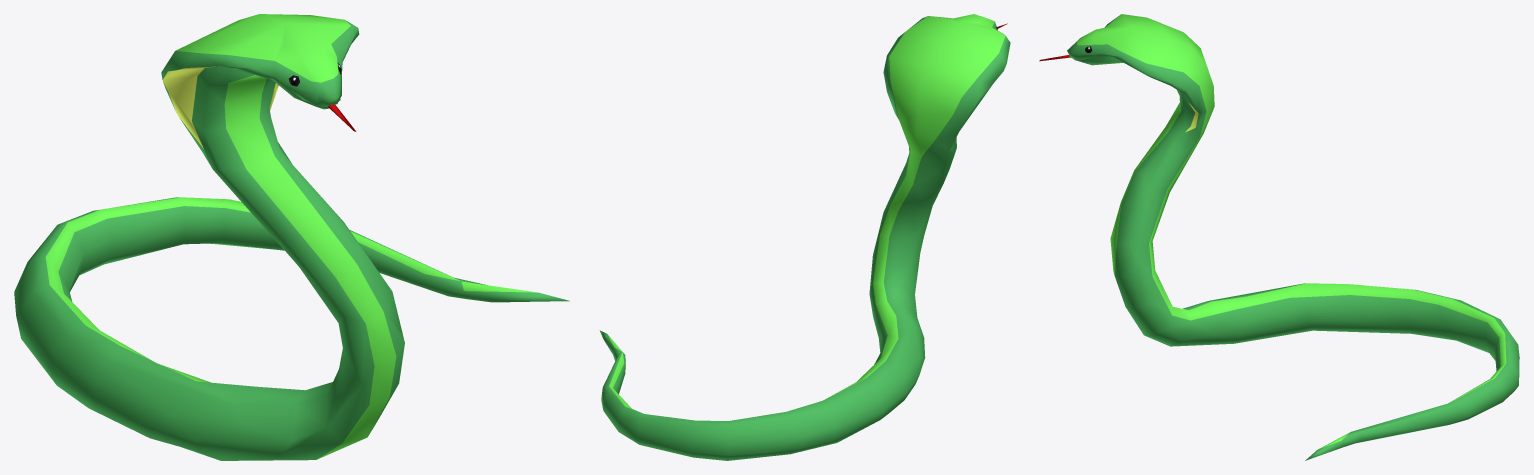
The model's file is Snake.glb.
3 views of the same model, side by side, from view 1: azimuth 30°, elevation 25°; view 2: azimuth 150°, elevation 25°; view 3: azimuth 270°, elevation 25° (orthographic). The views are drawn at different scales.
Visible parts, largest first — view 1: Snake; view 2: Snake; view 3: Snake.
Boxes of the visible parts, x1,y1,x2,y2 form: Snake: [14, 14, 569, 460]; Snake: [599, 14, 1010, 460]; Snake: [1039, 14, 1519, 460].
Size of what is drawn, in the model's own units: 0.7522 by 0.6922 by 0.9692.
1 material, 1 textured.
